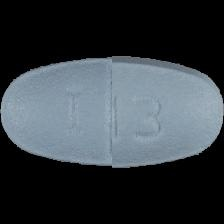35356-668: (0, 0, 224, 224)
